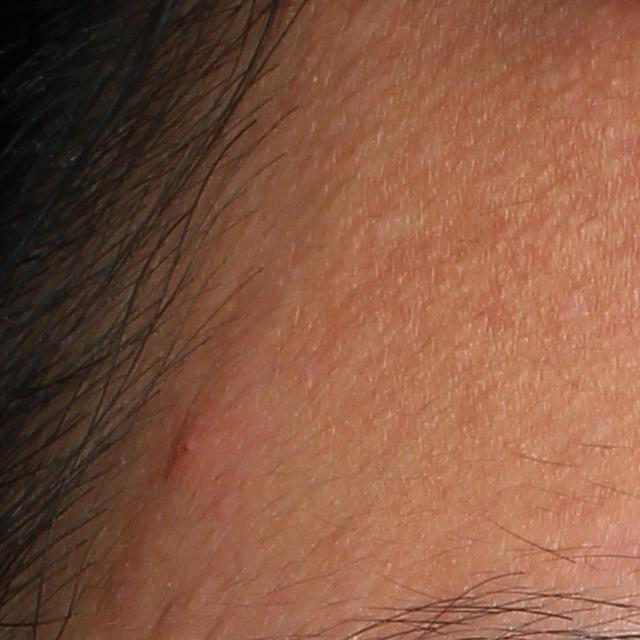comedo: (603, 73, 621, 92)
papule: (158, 394, 207, 482)
